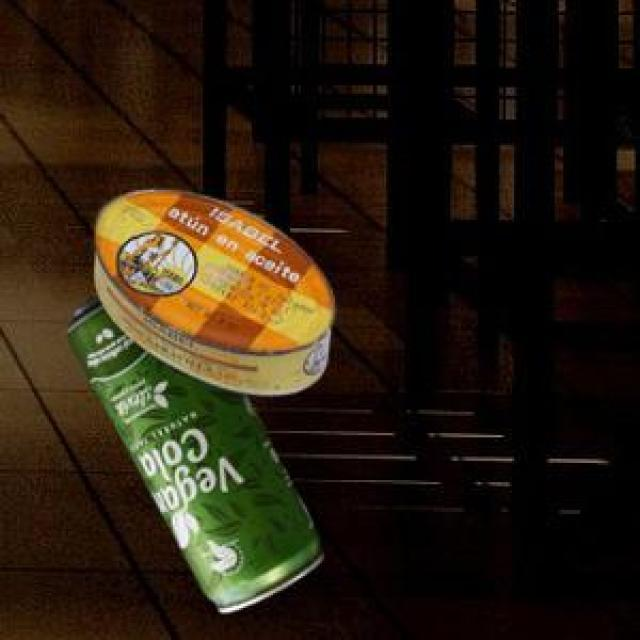Can: (65, 293, 321, 609), (91, 187, 332, 391)
